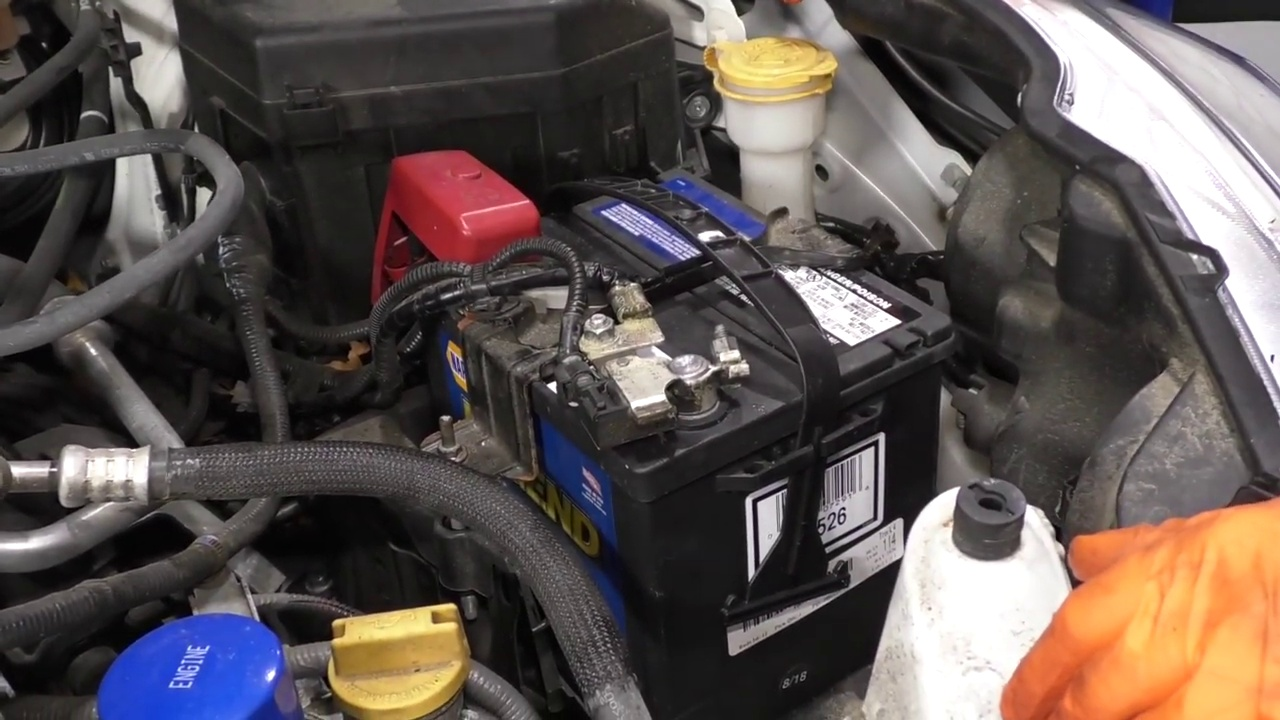battery: (417, 152, 950, 482)
neg_connected: (578, 314, 781, 450)
pos_connected: (350, 138, 543, 320)
